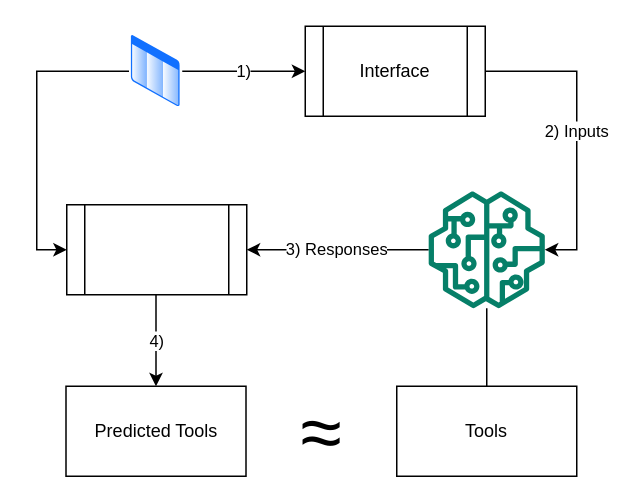
The diagram is 635 pixels wide and 503 high, and some of its shapes have lost their labels. Here are the shapes that lost their labels. From the top down, the centre of each, then its label:
At (155,70): "Probes".
At (156,249): "Analyzer".
